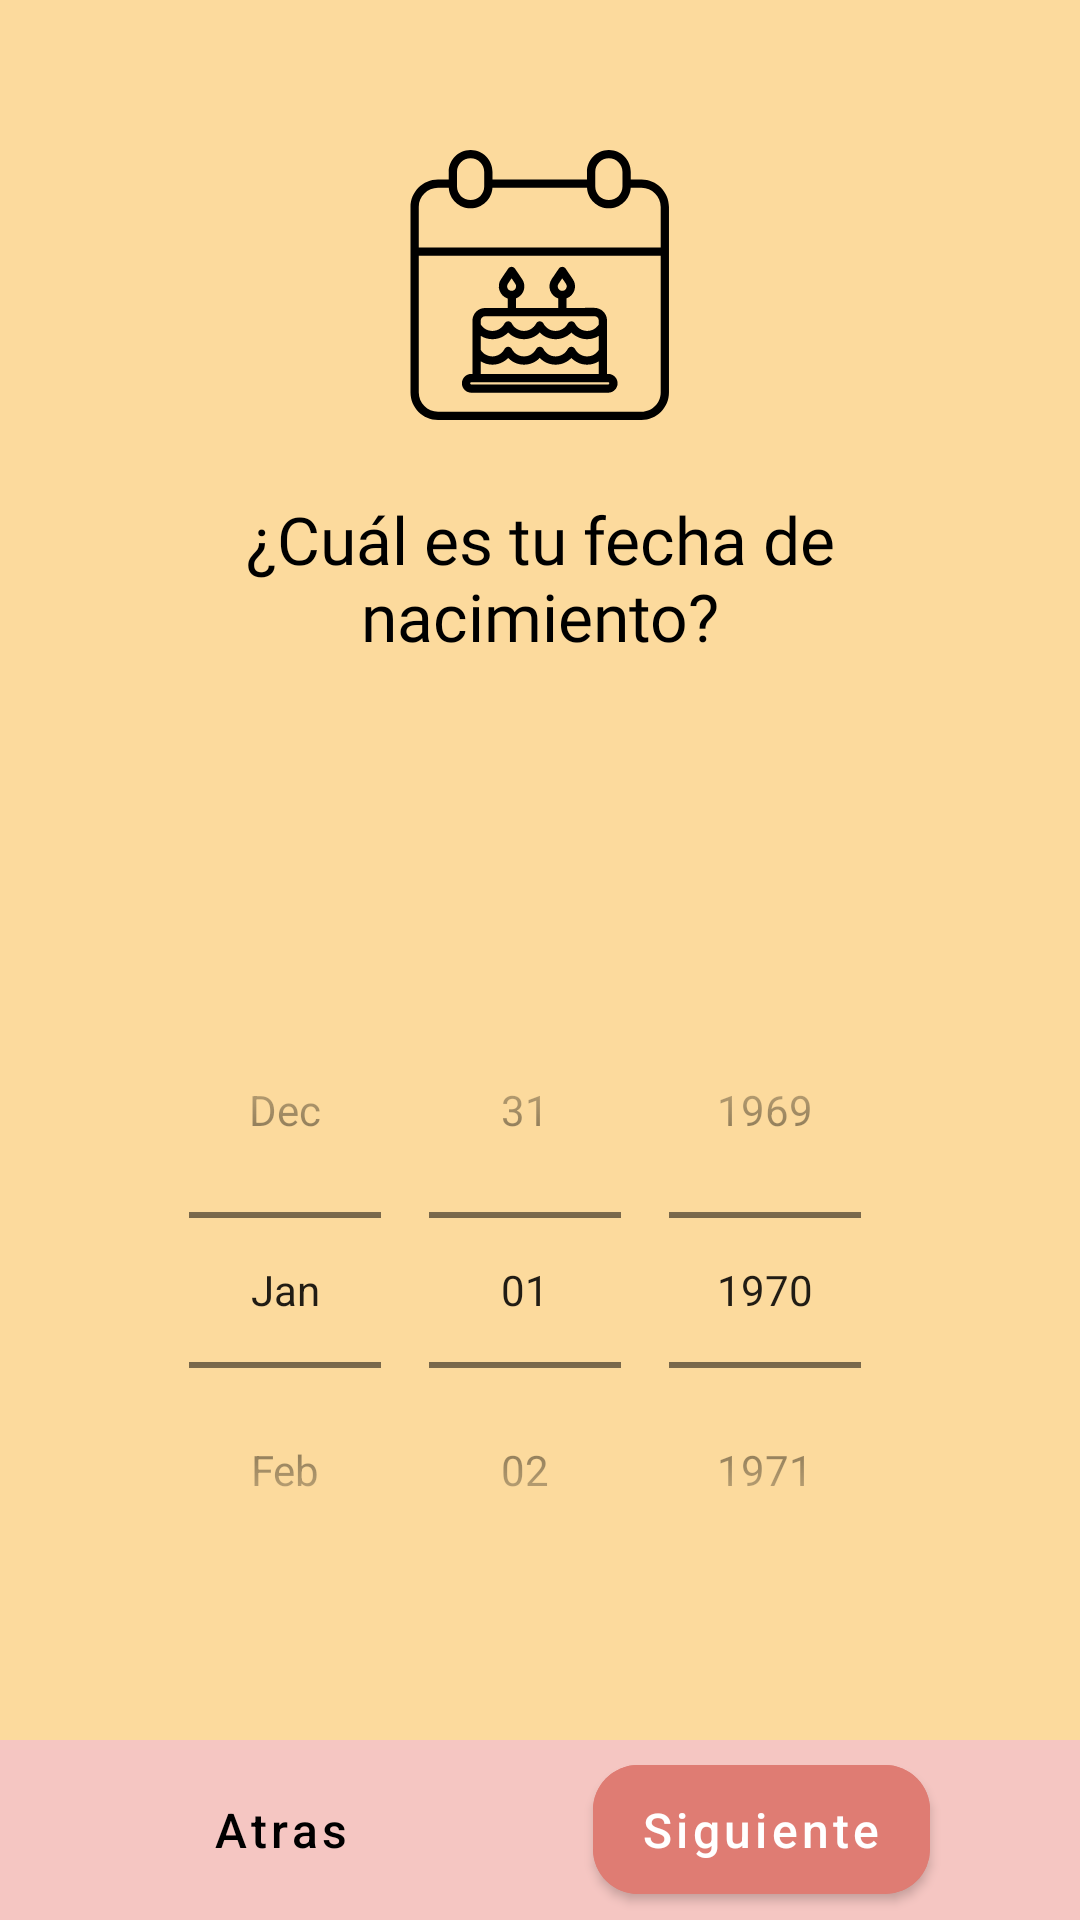

Screen size 1080px×1920px. Icon name, then its box in pixels as (x1, y1, x2, y2):
birthday: (410, 150, 669, 420)
